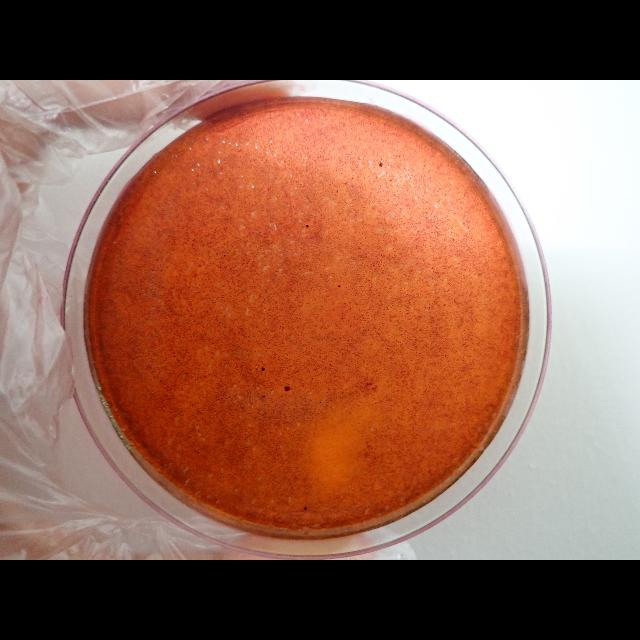colony: (283, 384, 291, 392), (260, 366, 266, 372), (379, 161, 383, 167), (304, 505, 308, 511), (305, 224, 309, 228)
